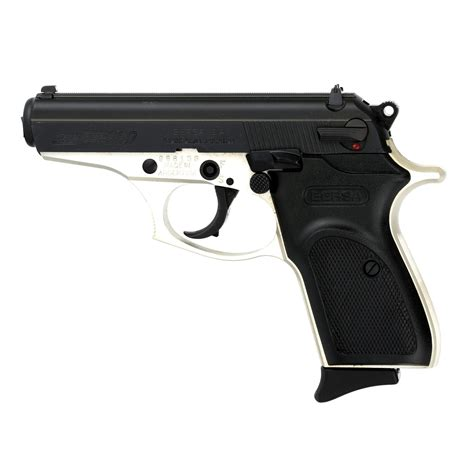gun: (21, 82, 446, 404)
